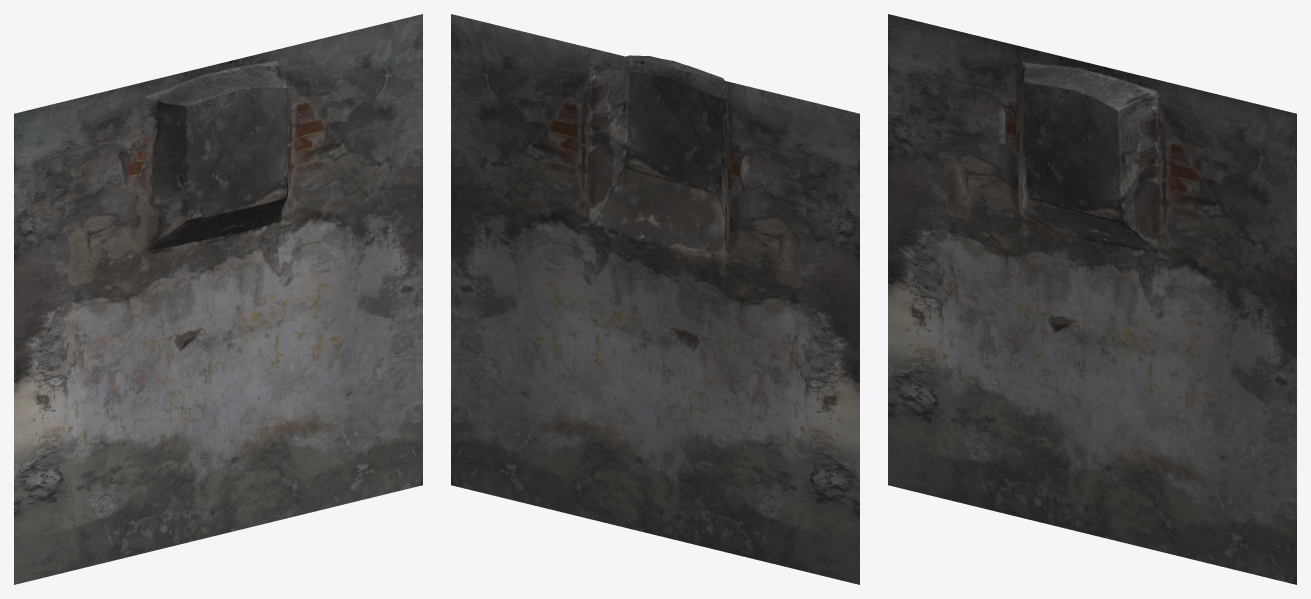
File: SM_CryptWall_01_08.fbx
The picture shows the model from 3 angles, left to right: view 1: azimuth 30°, elevation 25°; view 2: azimuth 150°, elevation 25°; view 3: azimuth 330°, elevation 25°; orthographic projection.
Visible parts, largest first — view 1: sm_CryptWall_01_08_LOD0; view 2: sm_CryptWall_01_08_LOD0; view 3: sm_CryptWall_01_08_LOD0.
Boxes of the visible parts, box(x1,y1,x2,y2) form: sm_CryptWall_01_08_LOD0: box(14, 14, 422, 584); sm_CryptWall_01_08_LOD0: box(451, 14, 859, 584); sm_CryptWall_01_08_LOD0: box(888, 14, 1296, 584).
Bounding box in the file's own units: 30.94 × 250 × 275.
